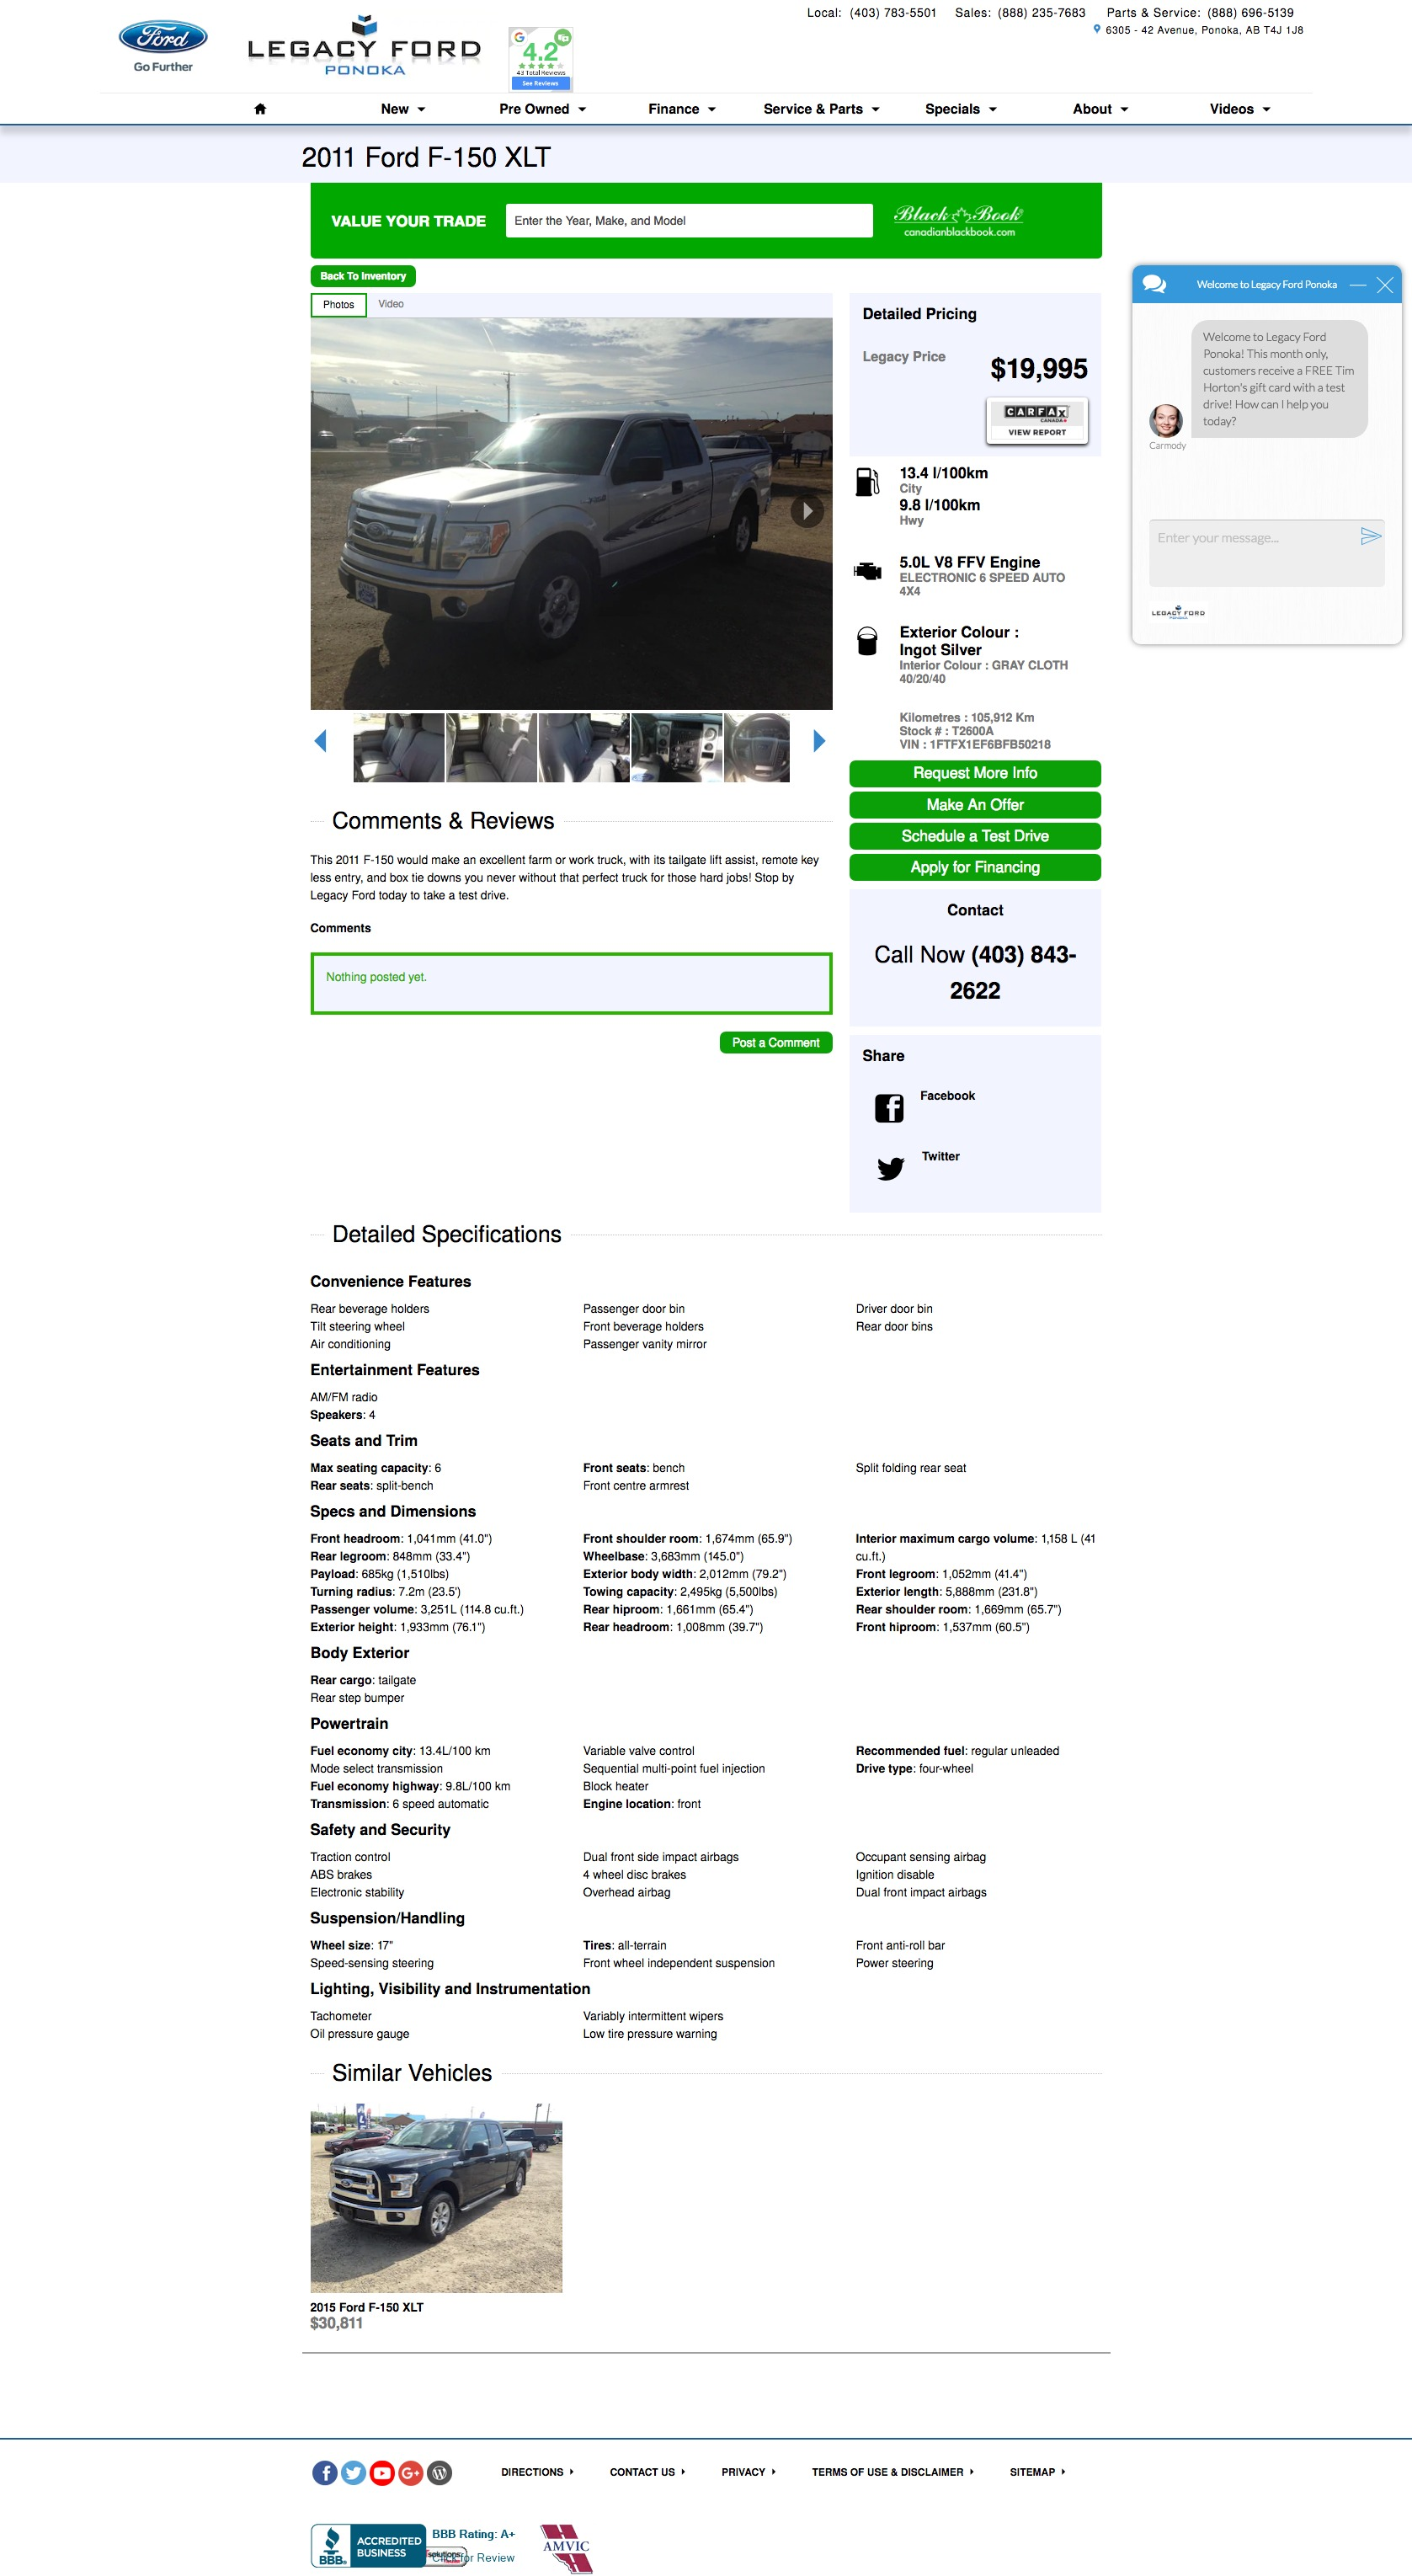car: (812, 730, 826, 754)
